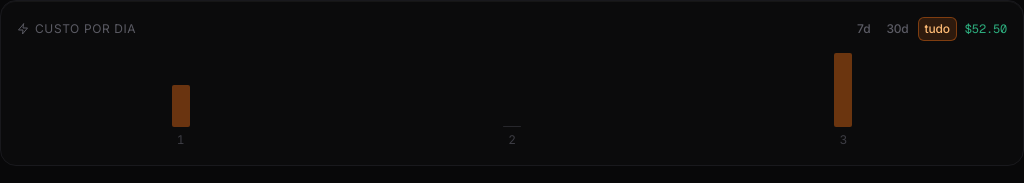
Test: Trend › tapping a bar shows that day in the header; tapping again goes back to the total
Step 1. Click the button "1" → (181, 101), box x1=17 y1=53 x2=344 y2=149
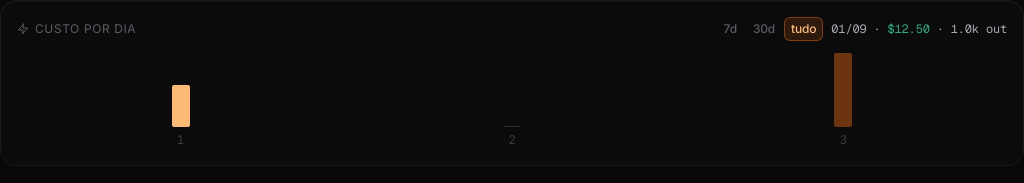
Now the text "· 1.0k out" is shown, box x1=930 y1=21 x2=1007 y2=37
Step 2. Click the button "1" → (181, 101), box x1=17 y1=53 x2=344 y2=149
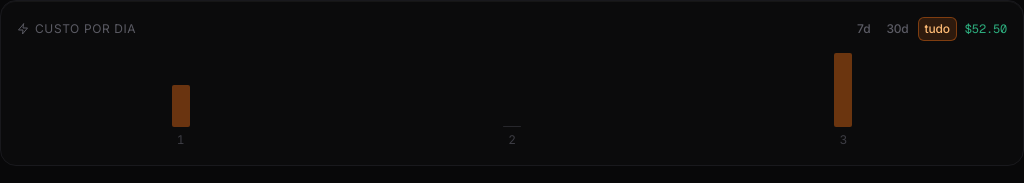
Now the text " out" is gone
